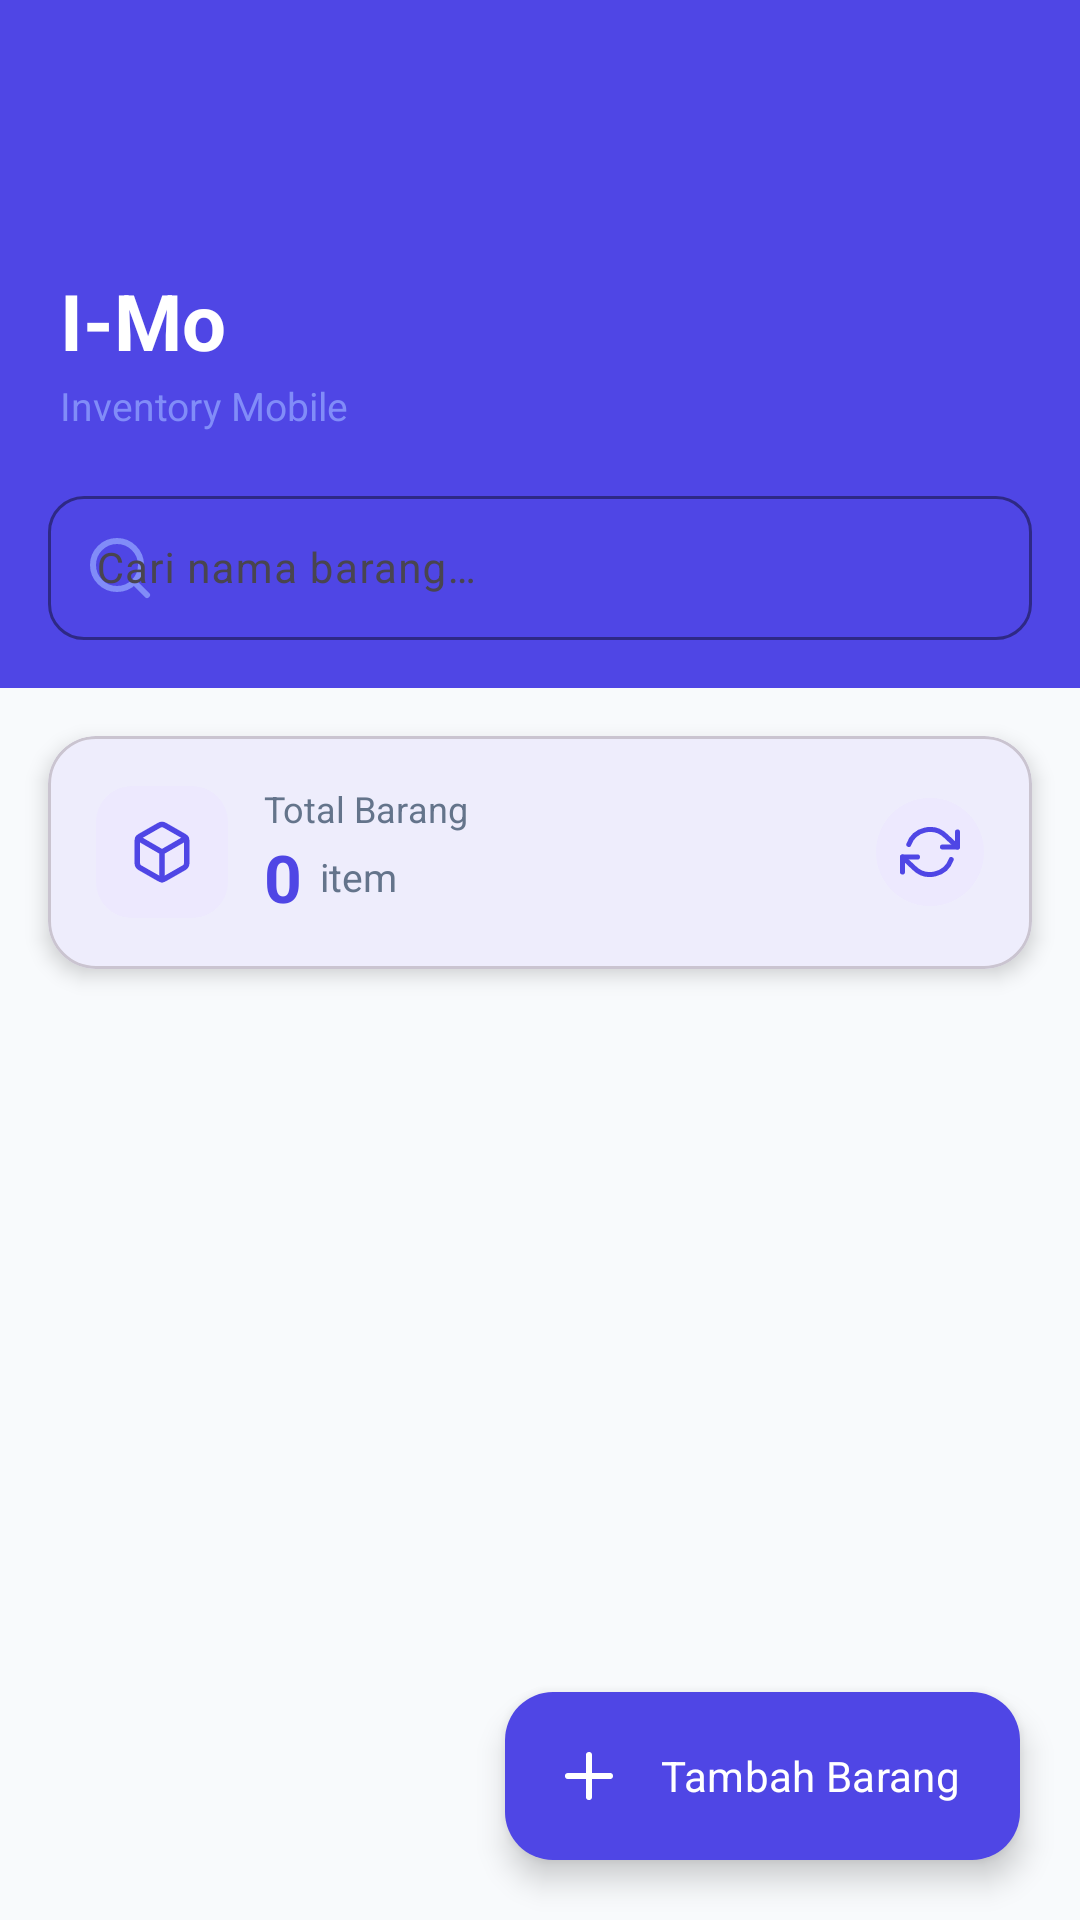

Named icons in this screenshot (1080 × 1920) and their bounding boxes, (x1, y1, x2, y2):
box: (134, 821, 190, 883)
refresh: (900, 827, 960, 877)
